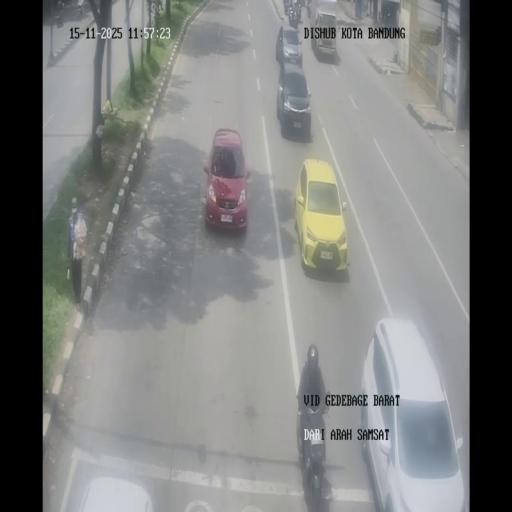car: (361, 319, 465, 507), (203, 128, 251, 232), (276, 66, 312, 138), (312, 1, 338, 60), (276, 24, 302, 69)
motorcycle: (296, 394, 331, 506), (289, 4, 301, 30), (380, 3, 392, 25), (305, 0, 312, 18), (297, 0, 306, 14), (284, 0, 292, 15)
